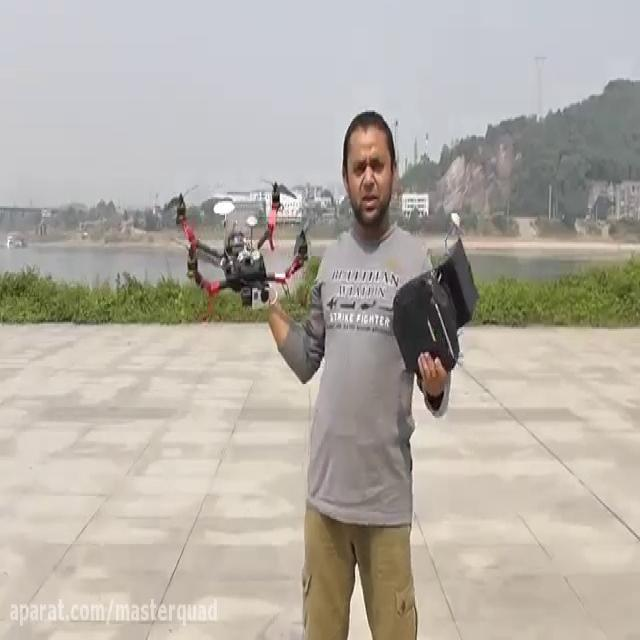drone: (161, 170, 312, 316)
